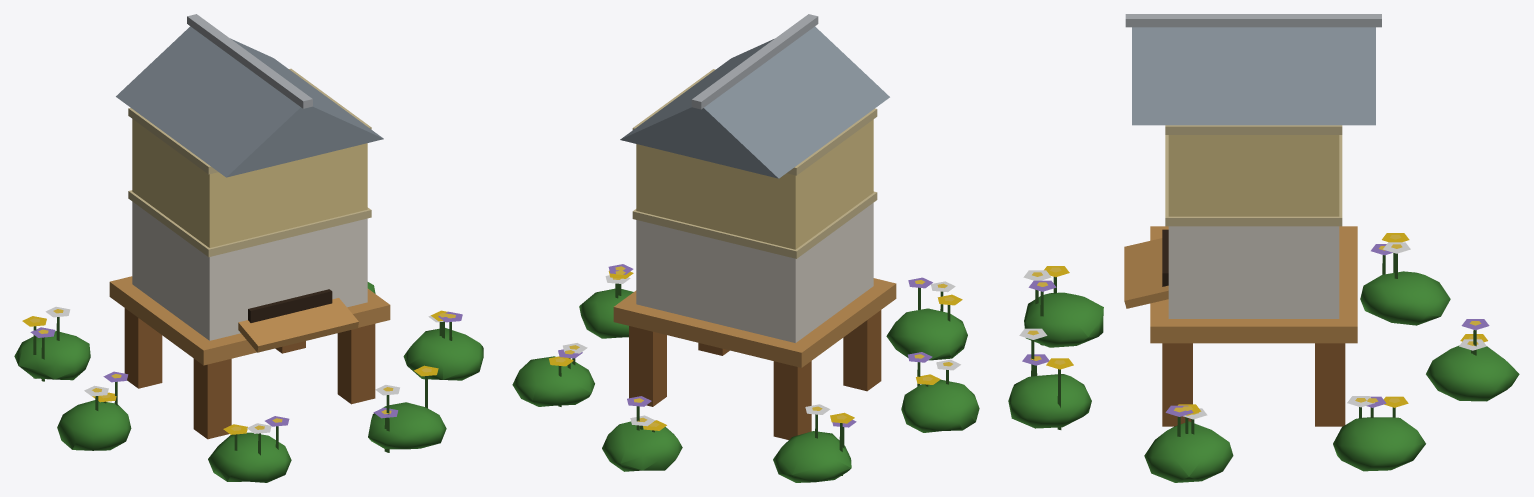
The model's file is beehive.glb.
3 renders of one model, left to right at view 1: azimuth 30°, elevation 25°; view 2: azimuth 150°, elevation 25°; view 3: azimuth 270°, elevation 25°, orthographic. The views are drawn at different scales.
Parts seen in each view (by area): view 1: home-beehive; view 2: home-beehive; view 3: home-beehive.
Part boxes in pixels (x1,y1,x2,y2): home-beehive: [14, 14, 483, 482]; home-beehive: [512, 14, 979, 482]; home-beehive: [1008, 14, 1519, 482].
Size of the model in its own units: 1.68 by 1.32 by 1.68.
